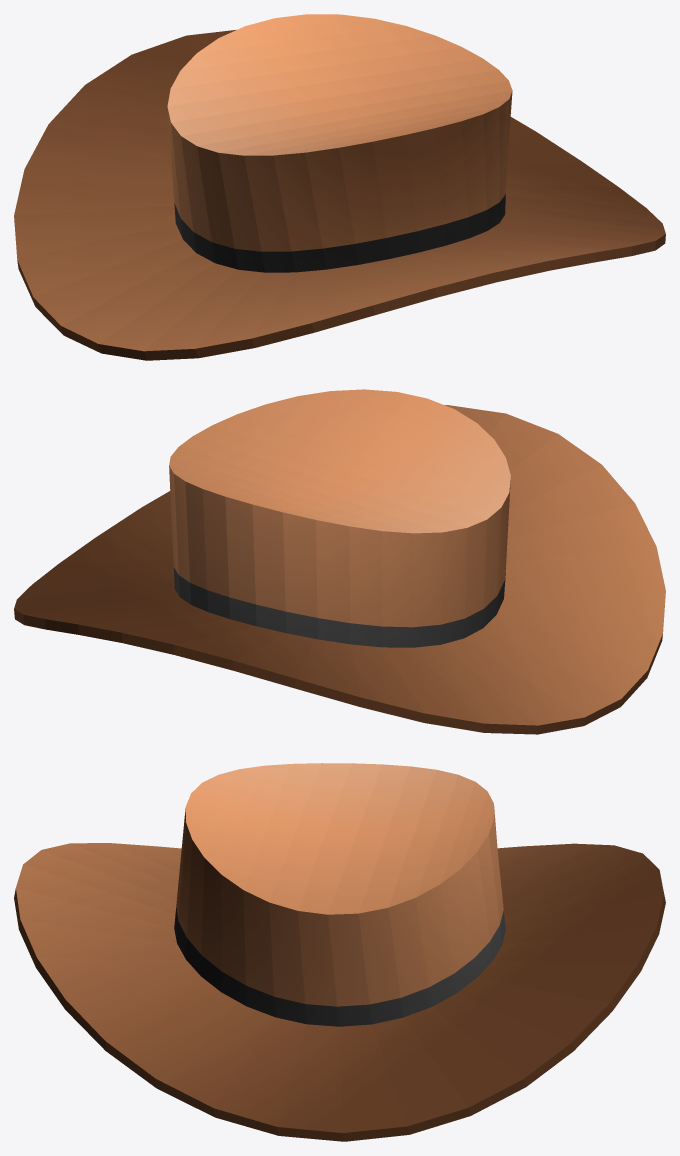
The model's file is Cowboy (1).fbx.
3 renders of one model, top to bottom at view 1: azimuth 30°, elevation 25°; view 2: azimuth 150°, elevation 25°; view 3: azimuth 270°, elevation 25°, orthographic.
Visible parts, largest first — view 1: Circle; view 2: Circle; view 3: Circle.
Boxes of the visible parts, bbox=[...] form: Circle: bbox=[14, 14, 665, 360]; Circle: bbox=[14, 389, 665, 734]; Circle: bbox=[14, 763, 665, 1141].
Bounding box in the file's own units: 198 × 63.91 × 197.
